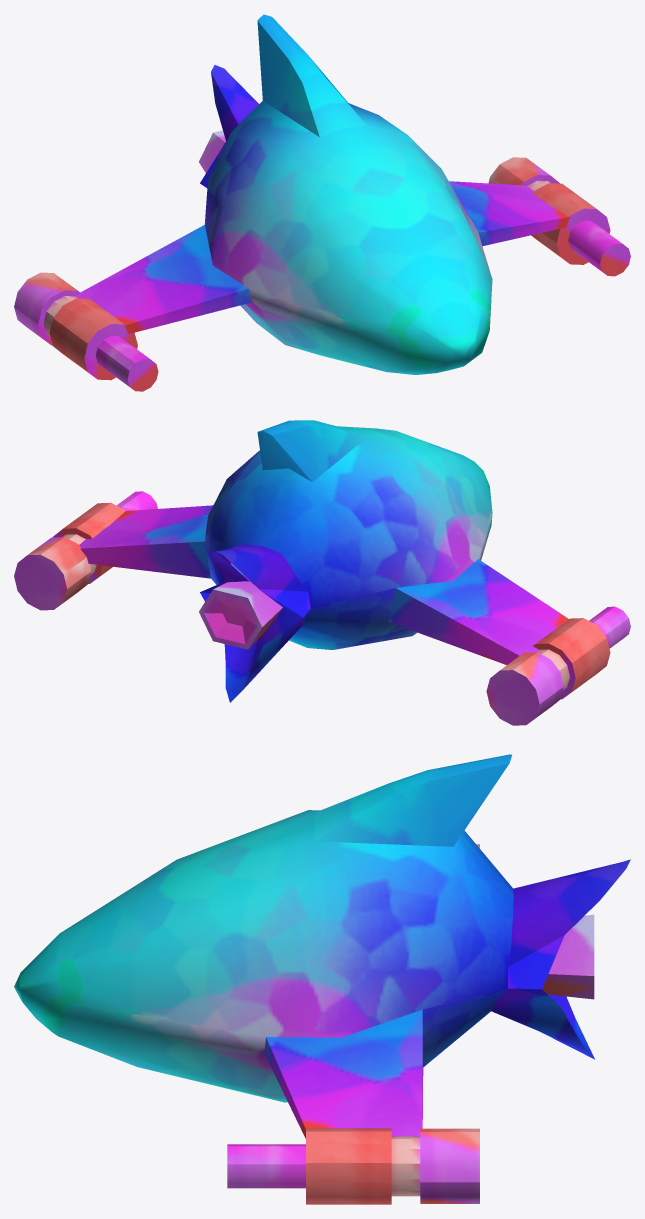
The model's file is Player_mesh_final.FBX.
3 views of the same model, one above another, from view 1: azimuth 30°, elevation 25°; view 2: azimuth 150°, elevation 25°; view 3: azimuth 270°, elevation 25° (orthographic). The views are drawn at different scales.
Parts seen in each view (by area): view 1: Player; view 2: Player; view 3: Player.
Part boxes in pixels (bbox=[...]): Player: bbox=[14, 14, 630, 391]; Player: bbox=[14, 420, 630, 725]; Player: bbox=[14, 754, 630, 1204].
Bounding box in the file's own units: 274 × 136 × 226.
